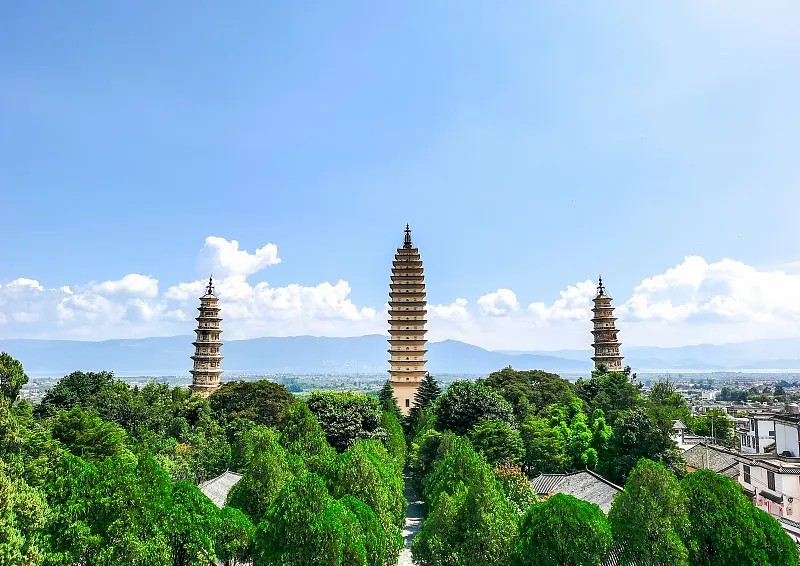ThreePagoda: (388, 222, 428, 414)
